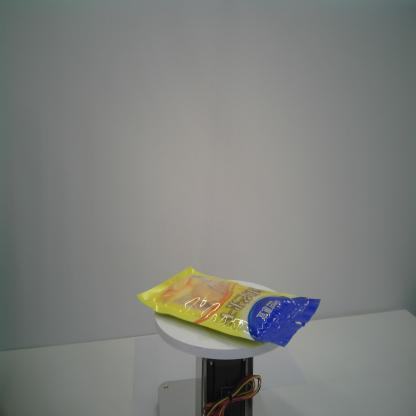Dried Fruit: (136, 266, 322, 348)
